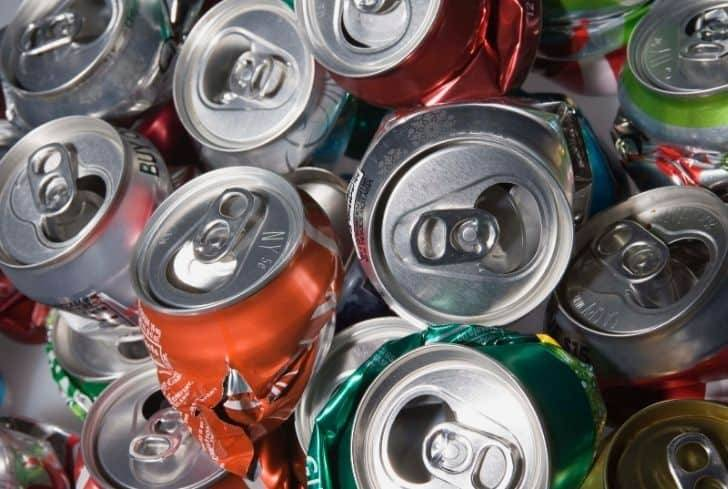metal: (149, 179, 330, 448), (359, 116, 573, 319), (343, 351, 597, 484), (4, 119, 137, 293), (171, 0, 311, 148)
